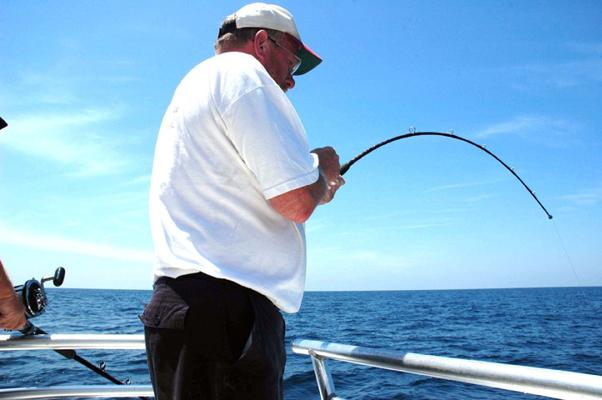person: (141, 3, 348, 400)
